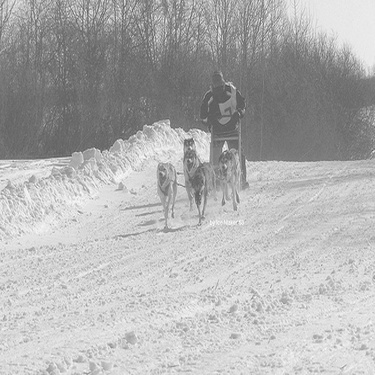dog: (185, 155, 218, 225), (153, 158, 180, 233), (215, 146, 240, 213), (176, 150, 202, 211), (226, 144, 243, 198), (176, 140, 197, 157)
